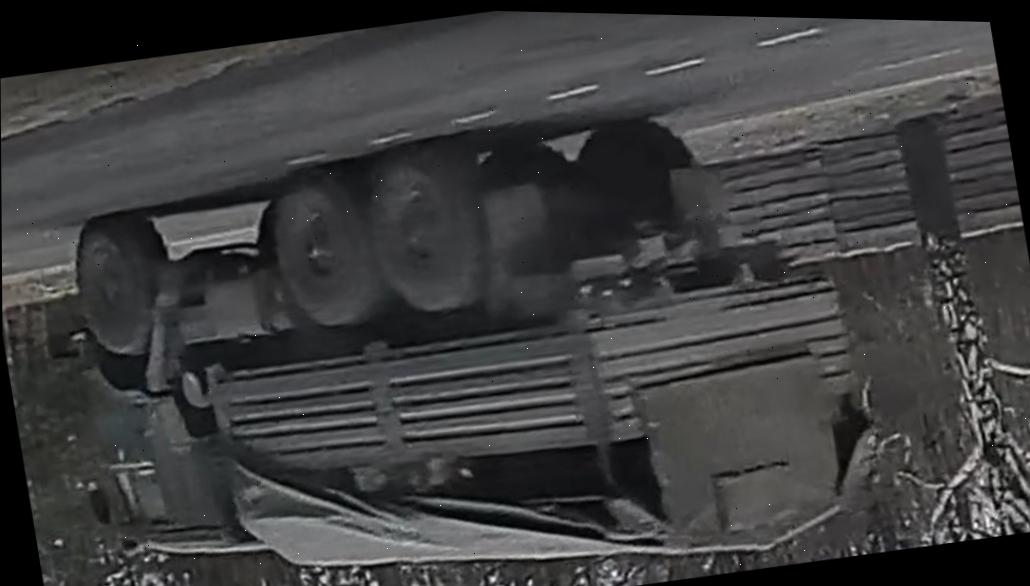truck: (20, 73, 907, 586)
